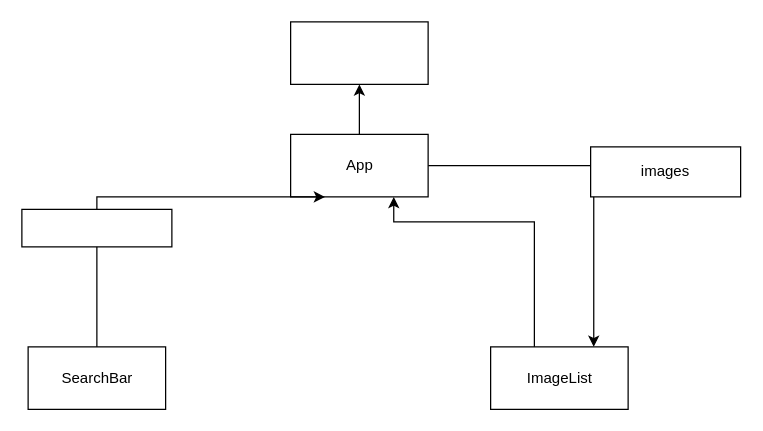
This 763x431 diagram has some shape labels left out. The shapes that lost their labels are listed below. From the top down, each one's centre as x and y in pixels, then its label:
At point (358, 52): "HTML".
At point (96, 227): "item".
